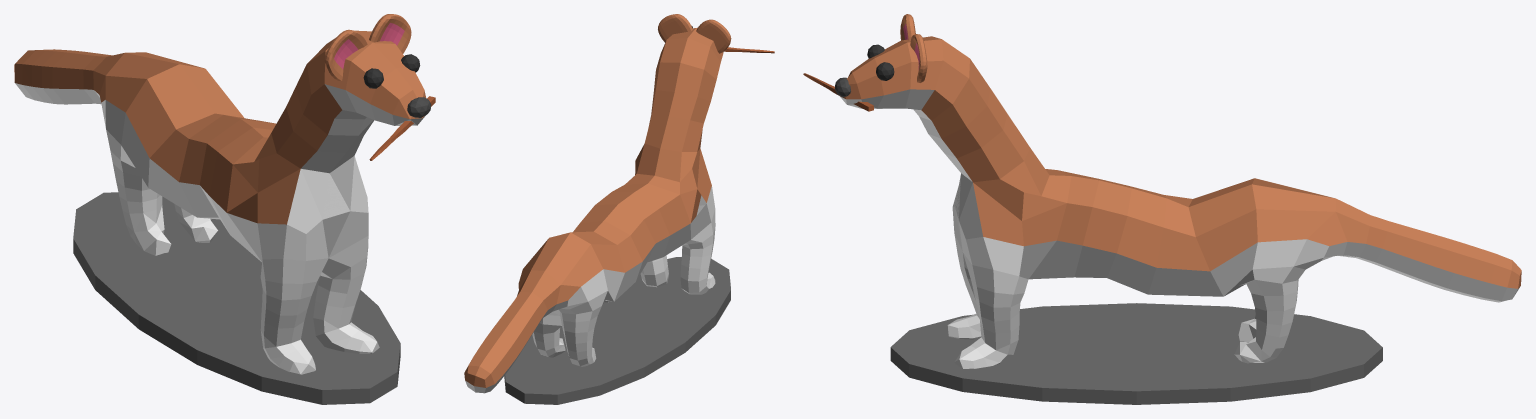
Rendered from weasel.glb.
3 renders of one model, left to right at view 1: azimuth 30°, elevation 25°; view 2: azimuth 150°, elevation 25°; view 3: azimuth 270°, elevation 25°, orthographic. The views are drawn at different scales.
Visible parts, largest first — view 1: Pine; view 2: Pine; view 3: Pine.
Boxes of the visible parts, bbox=[...] form: Pine: bbox=[14, 14, 435, 404]; Pine: bbox=[464, 14, 774, 404]; Pine: bbox=[803, 14, 1521, 404].
Bounding box in the file's own units: 4.54 × 8.16 × 15.62.
